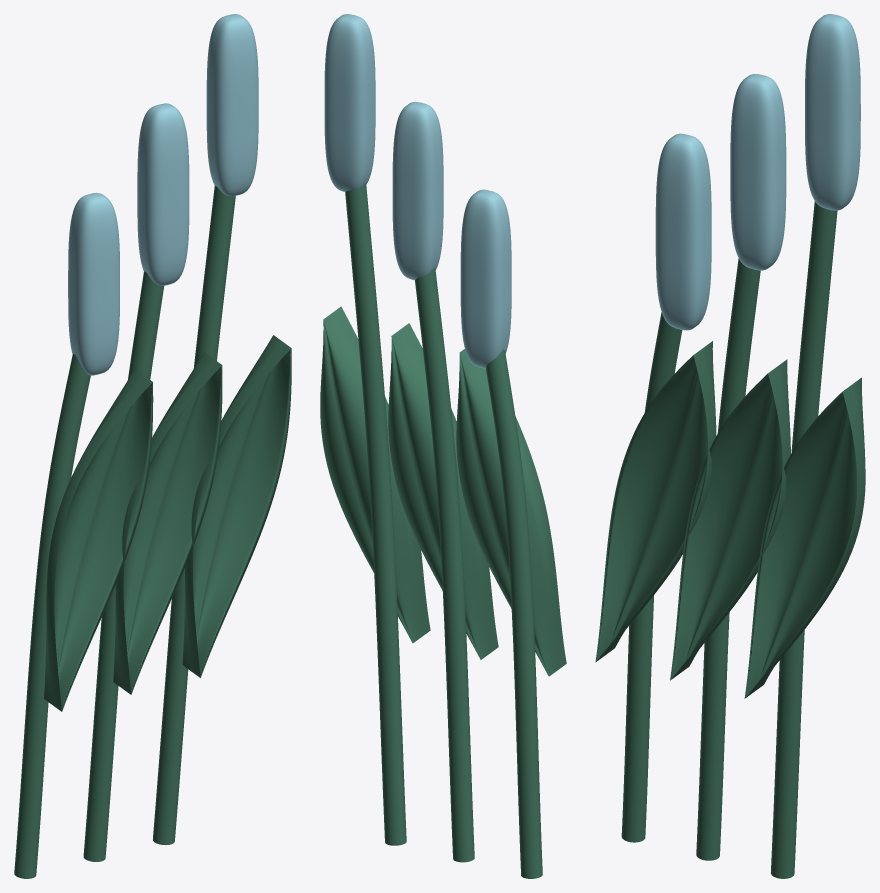
3 renders of one model, left to right at view 1: azimuth 30°, elevation 25°; view 2: azimuth 150°, elevation 25°; view 3: azimuth 330°, elevation 25°, orthographic. The views are drawn at different scales.
Parts seen in each view (by area): view 1: reed-blade-0, reed-blade-2, reed-blade-1, reed-stem-0, reed-stem-2, reed-head-2, reed-head-1, reed-head-0, reed-stem-1; view 2: reed-stem-2, reed-stem-1, reed-blade-0, reed-blade-2, reed-blade-1, reed-stem-0, reed-head-2, reed-head-1, reed-head-0; view 3: reed-blade-2, reed-blade-0, reed-blade-1, reed-stem-2, reed-head-0, reed-head-1, reed-head-2, reed-stem-1, reed-stem-0.
Boxes of the visible parts, <box> form: reed-blade-0: <box>44,369,153,711</box>; reed-blade-2: <box>182,335,291,677</box>; reed-blade-1: <box>113,352,222,694</box>; reed-stem-0: <box>14,354,90,878</box>; reed-stem-2: <box>153,185,235,844</box>; reed-head-2: <box>206,14,258,196</box>; reed-head-1: <box>137,103,189,285</box>; reed-head-0: <box>68,192,119,375</box>; reed-stem-1: <box>83,271,164,861</box>; reed-stem-2: <box>345,184,406,845</box>; reed-stem-1: <box>415,268,474,862</box>; reed-blade-0: <box>456,349,566,676</box>; reed-blade-2: <box>320,306,430,643</box>; reed-blade-1: <box>388,323,498,659</box>; reed-stem-0: <box>486,349,542,878</box>; reed-head-2: <box>324,14,375,191</box>; reed-head-1: <box>392,101,443,280</box>; reed-head-0: <box>460,189,511,368</box>; reed-blade-2: <box>744,377,865,698</box>; reed-blade-0: <box>595,341,716,662</box>; reed-blade-1: <box>670,359,790,680</box>; reed-stem-2: <box>771,201,837,878</box>; reed-head-0: <box>655,133,711,330</box>; reed-head-1: <box>730,74,786,270</box>; reed-head-2: <box>805,14,860,210</box>; reed-stem-1: <box>696,258,760,860</box>; reed-stem-0: <box>621,312,682,842</box>.
Bounding box in the file's own units: 0.6378 × 2.03 × 0.1875.
